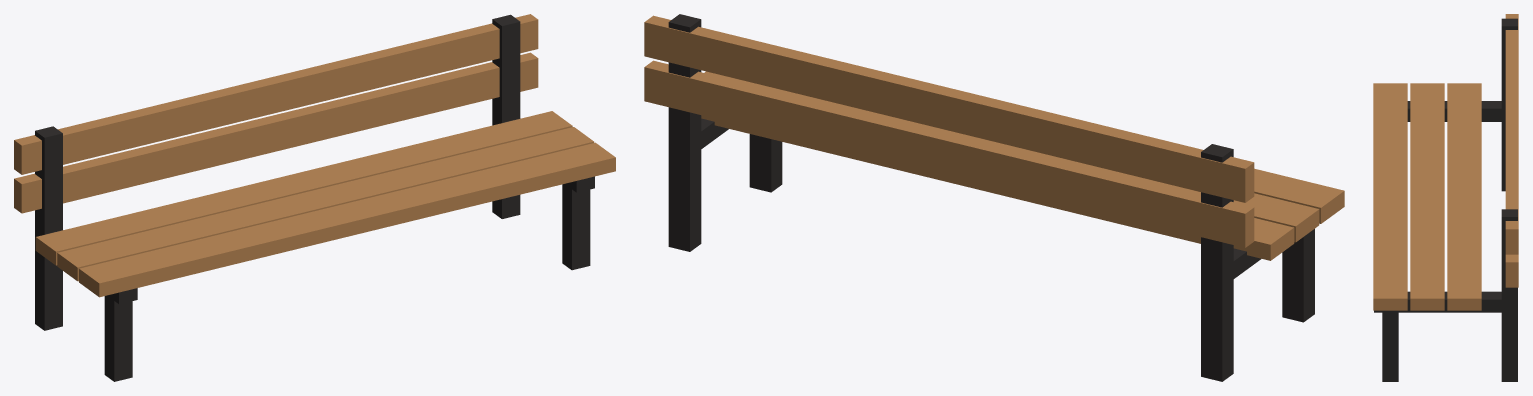
The model's file is LobbyBench.fbx.
3 renders of one model, left to right at view 1: azimuth 30°, elevation 25°; view 2: azimuth 150°, elevation 25°; view 3: azimuth 270°, elevation 25°, orthographic. The views are drawn at different scales.
Parts seen in each view (by area): view 1: LobbyBench; view 2: LobbyBench; view 3: LobbyBench.
Boxes of the visible parts, bbox=[...] form: LobbyBench: bbox=[14, 14, 615, 381]; LobbyBench: bbox=[644, 14, 1344, 381]; LobbyBench: bbox=[1373, 14, 1518, 381].
Bounding box in the file's own units: 7 × 2.5 × 2.
